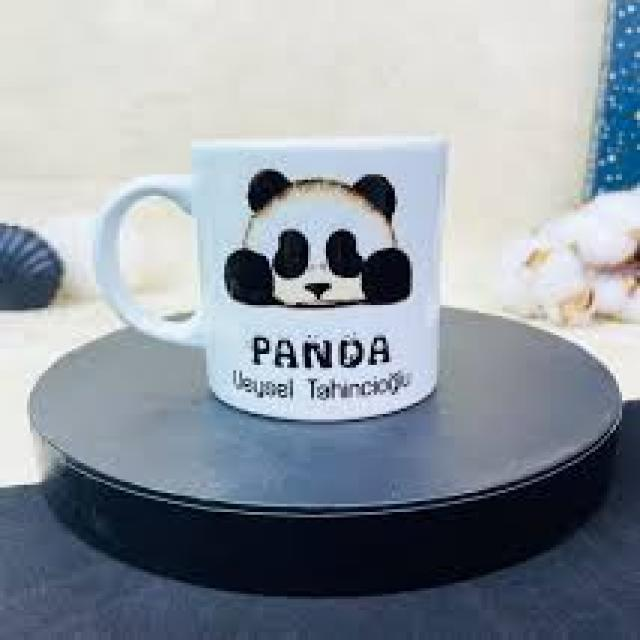taza: (91, 136, 452, 424)
